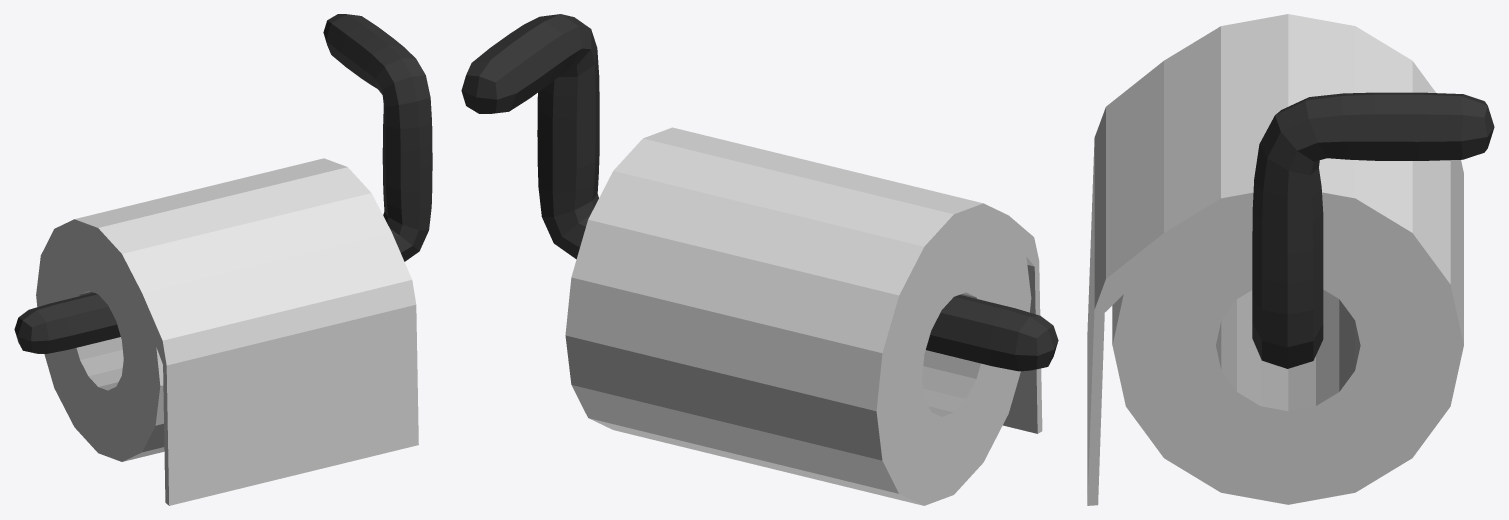
The model's file is ToiletPaper.fbx.
3 views of the same model, side by side, from view 1: azimuth 30°, elevation 25°; view 2: azimuth 150°, elevation 25°; view 3: azimuth 270°, elevation 25° (orthographic). The views are drawn at different scales.
Visible parts, largest first — view 1: Prop_ToiletPaper; view 2: Prop_ToiletPaper; view 3: Prop_ToiletPaper.
Part boxes in pixels (x1,y1,x2,y2): Prop_ToiletPaper: (14, 14, 432, 505); Prop_ToiletPaper: (461, 14, 1058, 505); Prop_ToiletPaper: (1087, 14, 1494, 505).
Bounding box in the file's own units: 30.96 × 22.98 × 18.72.
Materials: 1 (1 with a texture image).
